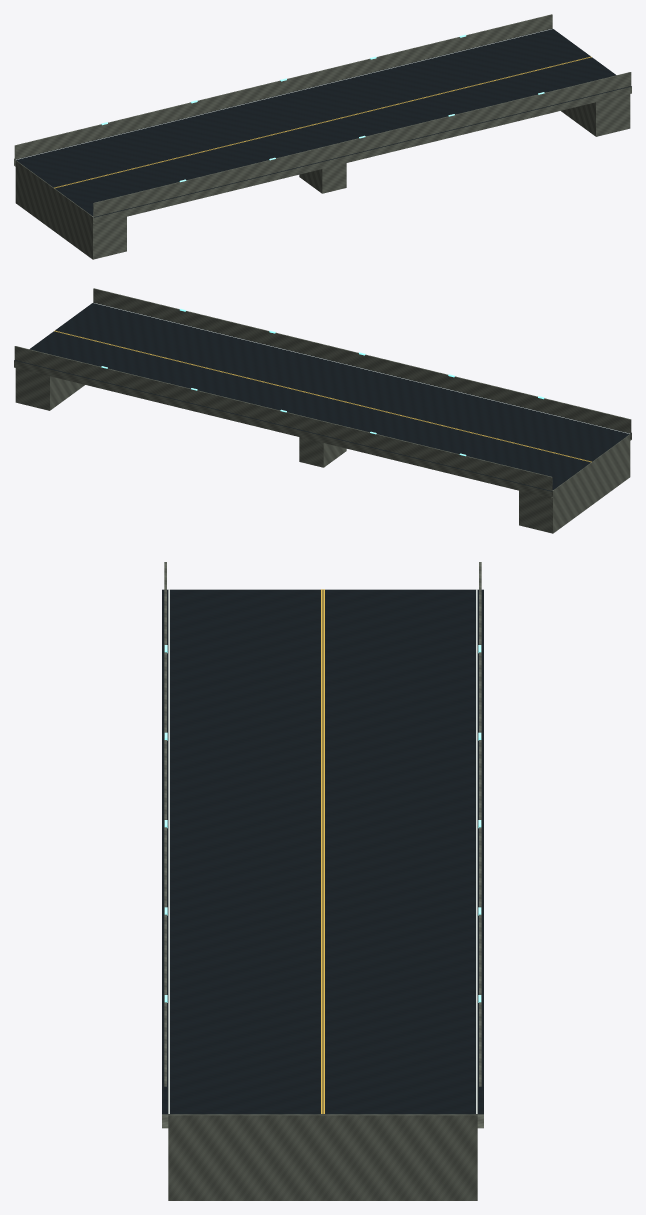
Rendered from bridge_2lane_32m_LOD0.glb.
3 views of the same model, one above another, from view 1: azimuth 30°, elevation 25°; view 2: azimuth 150°, elevation 25°; view 3: azimuth 270°, elevation 25° (orthographic). The views are drawn at different scales.
Visible parts, largest first — view 1: bridge_2lane_32m__deck, bridge_2lane_32m__pier; view 2: bridge_2lane_32m__deck, bridge_2lane_32m__pier; view 3: bridge_2lane_32m__deck, bridge_2lane_32m__pier.
Part boxes in pixels (x1,y1,x2,y2): bridge_2lane_32m__deck: (14, 14, 631, 224); bridge_2lane_32m__pier: (15, 94, 630, 259); bridge_2lane_32m__deck: (14, 288, 631, 498); bridge_2lane_32m__pier: (15, 368, 630, 533); bridge_2lane_32m__deck: (162, 562, 483, 1128); bridge_2lane_32m__pier: (168, 1114, 477, 1200).
Bounding box in the file's own units: 32 × 4.24 × 8.3.
Materials: 5 (2 with a texture image).
